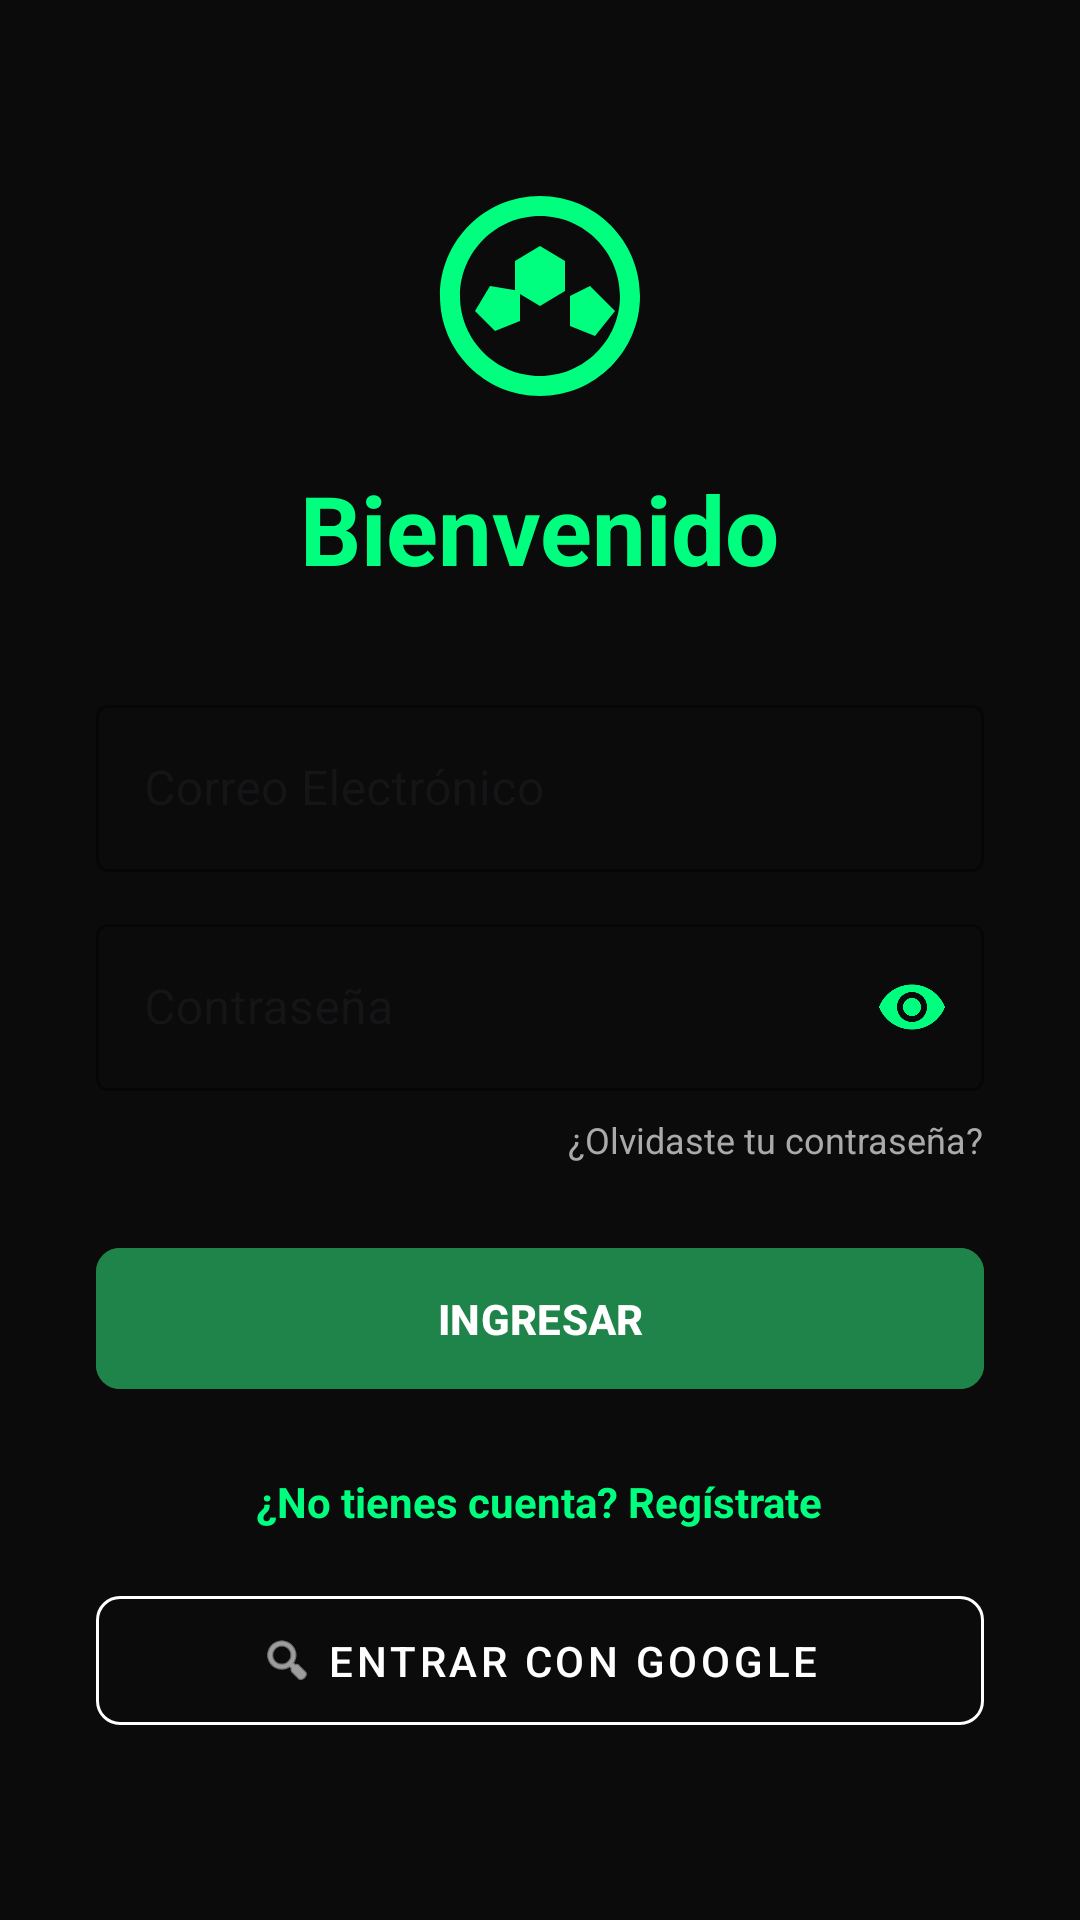

Where to tap for icons on this 1080×1920 app screen, as (x,y):
soccer ball: (539,296)
